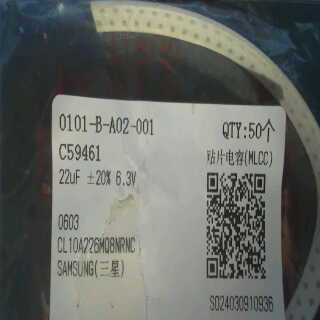22uF: (55, 167, 85, 187)
